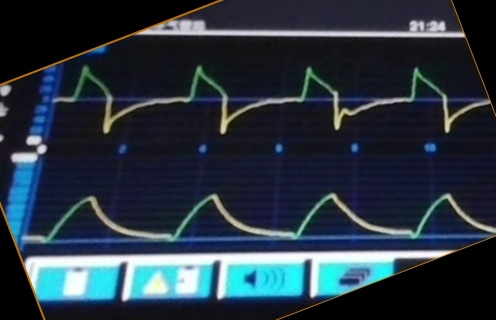Premature_cycling Flow: (71, 59, 473, 136)
Premature_cycling Volume: (38, 175, 474, 244)
